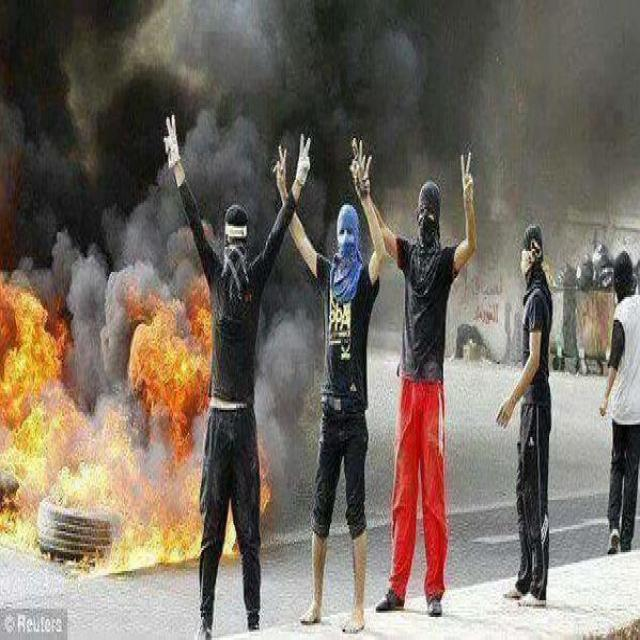fire: (0, 283, 71, 556), (127, 276, 214, 459), (112, 512, 202, 568), (101, 410, 140, 514), (54, 458, 116, 511), (143, 463, 179, 510), (68, 552, 120, 580)
